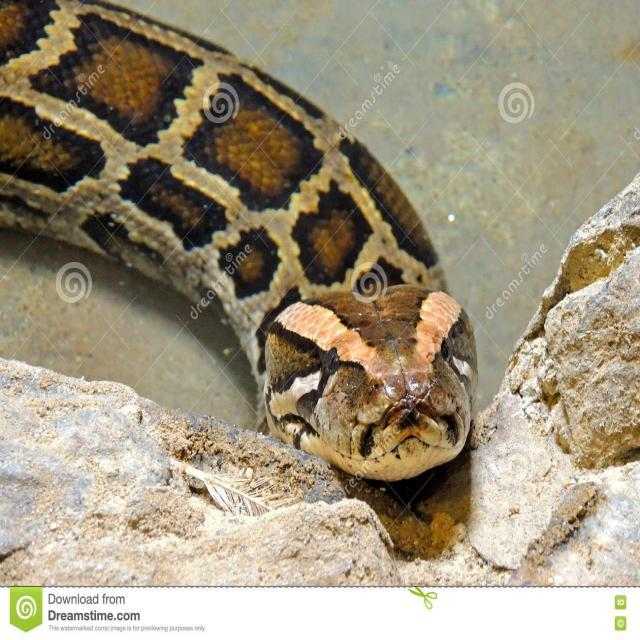Snake: (0, 0, 504, 515)
